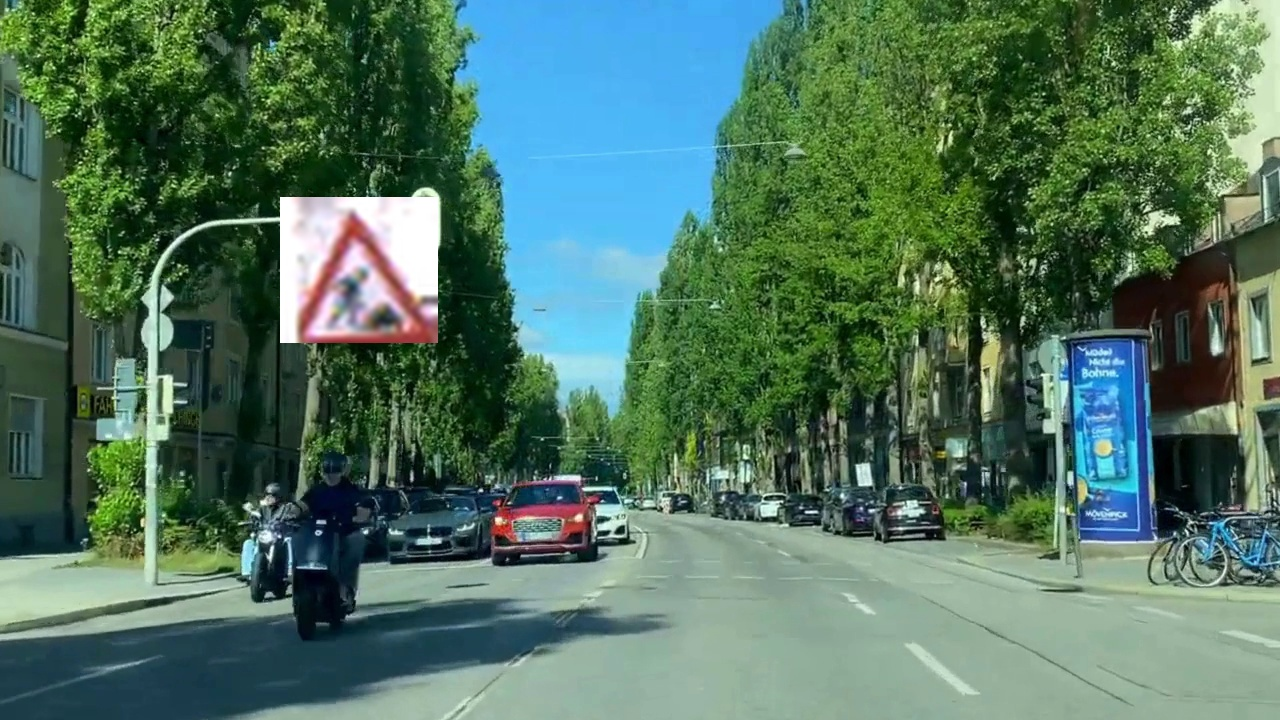Road work: (280, 197, 438, 343)
